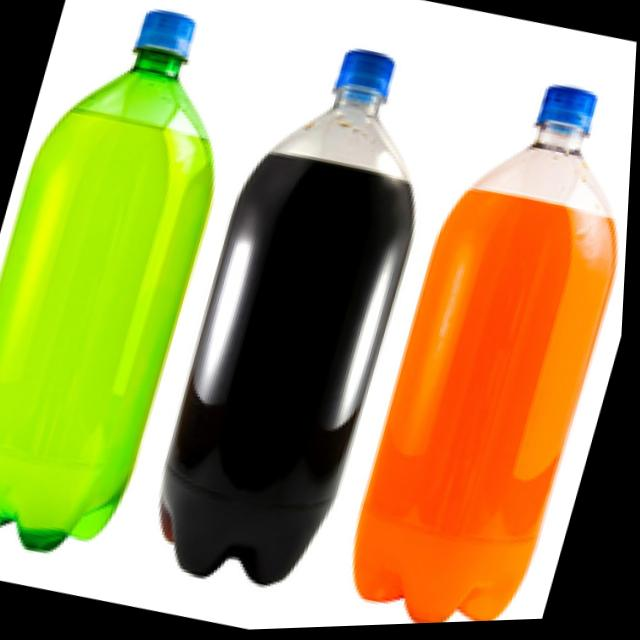plastic_soda_bottles: (133, 30, 462, 609), (342, 67, 636, 629), (0, 0, 261, 568)
